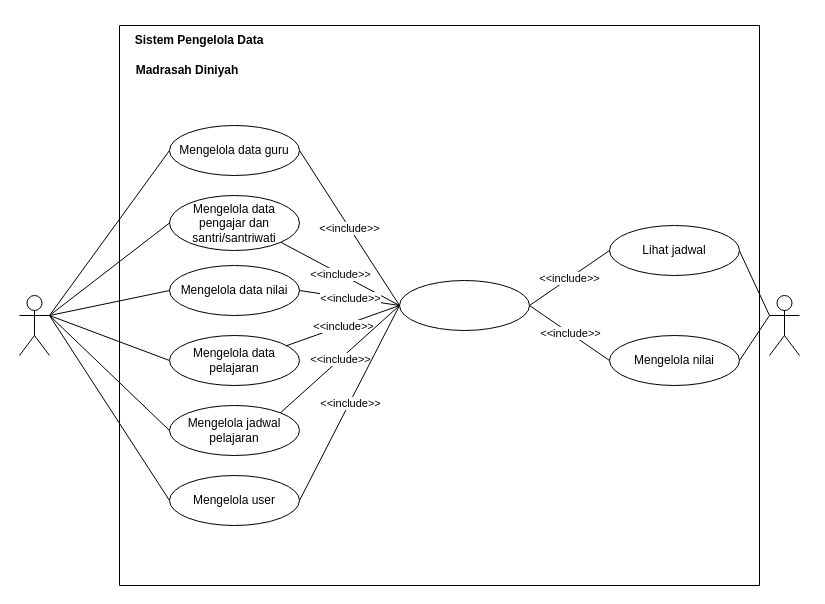
The diagram is 825 pixels wide and 604 high, and some of its shapes have lost their labels. The shapes that lost their labels are listed below. From the top down, each one's box as (x1, y1, x2, y2) in pixels, then its label:
(18, 294, 50, 356): Admin
(398, 280, 530, 330): Login
(768, 294, 800, 356): Pengajar
